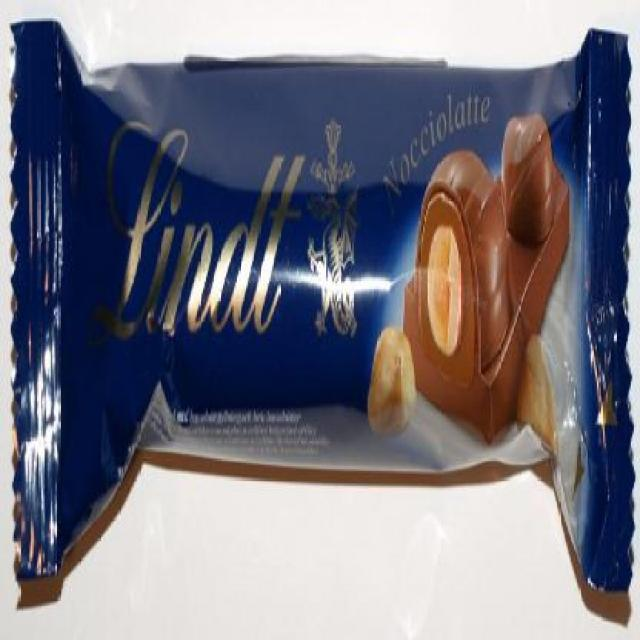Candy: (11, 7, 634, 595)
